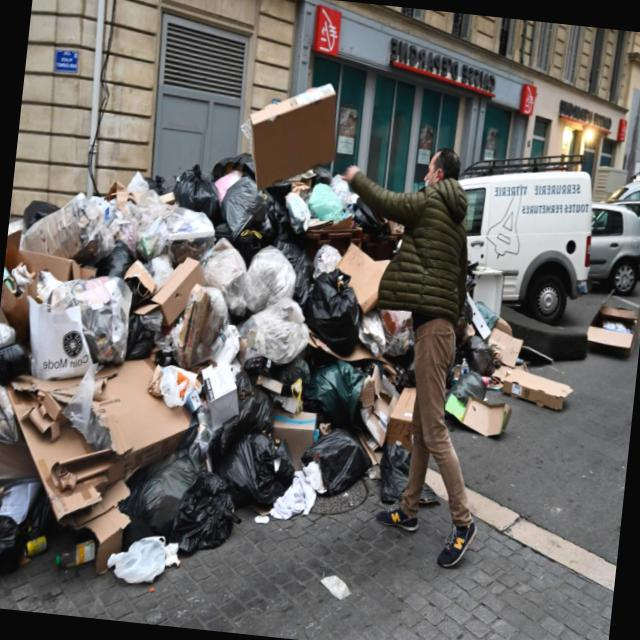garbage: (0, 87, 364, 640)
